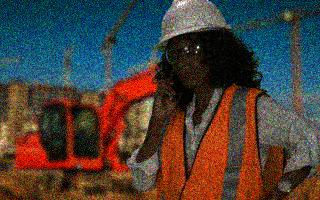helmet: (151, 1, 232, 89)
